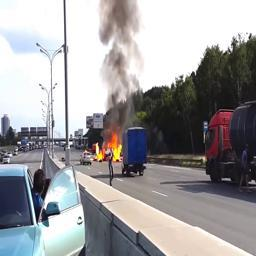fire: (94, 132, 122, 161)
